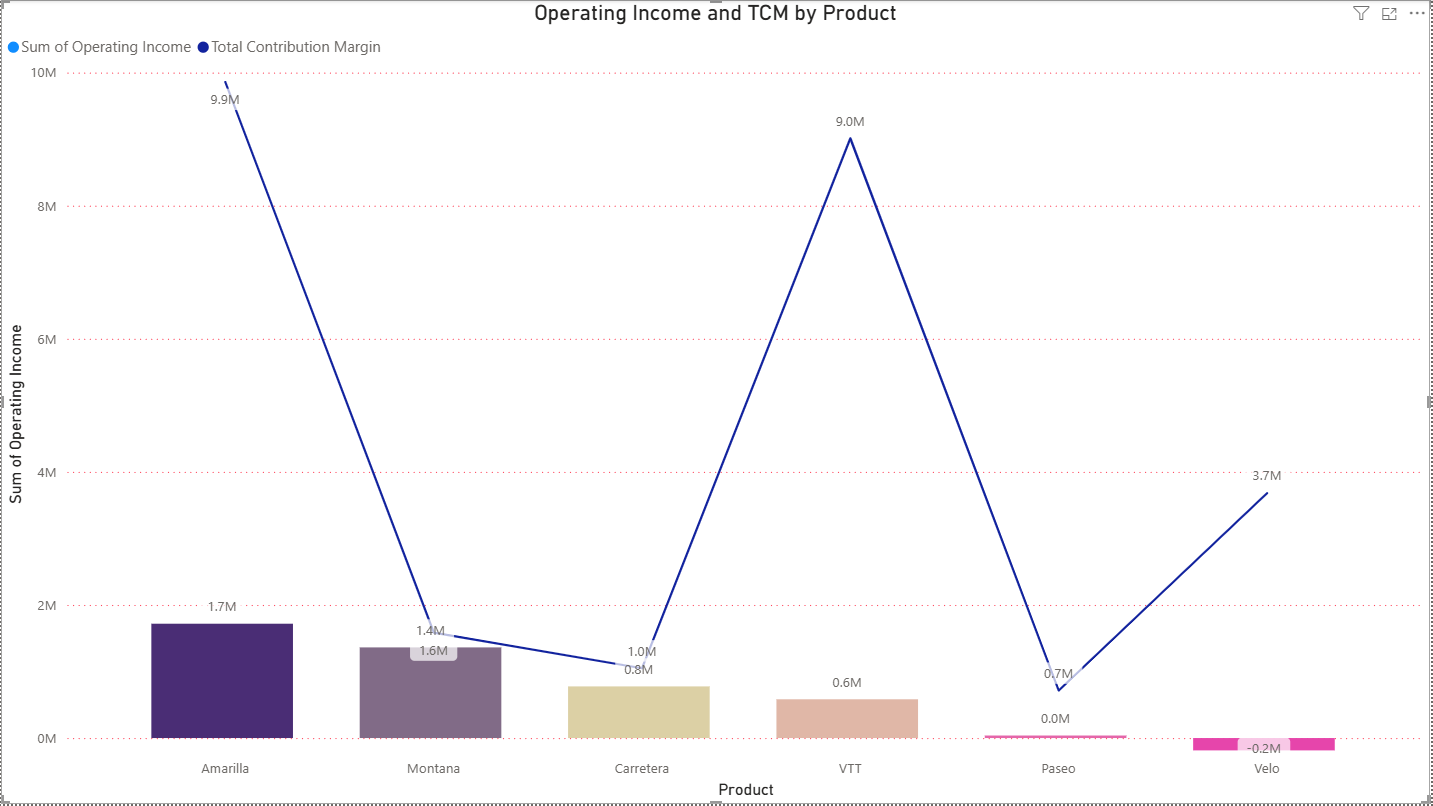

What the dashboard file says about the page in this screenshot:
{"tool":"powerbi","page":{"name":"5 line&column chart","canvas":[1280,720],"ordinal":5},"visuals":[{"type":"lineStackedColumnComboChart","title":"Operating Income and TCM by Product","fields":{"Category":["Financial Data.Product"],"Y":["Sum(Financial Data.Operating Income)"],"Y2":["KPI measure.Total Contribution Margin"]},"box":[0,0,1279.7,720],"z":0}]}

Visuals, with their boxes in screenshot pixels (x1, y1, x2, y2), scaled from the page's 1280x720 canvas onto the 1433x806 screenshot:
"Operating Income and TCM by Product" lineStackedColumnComboChart: x1=0, y1=0, x2=1432, y2=805
